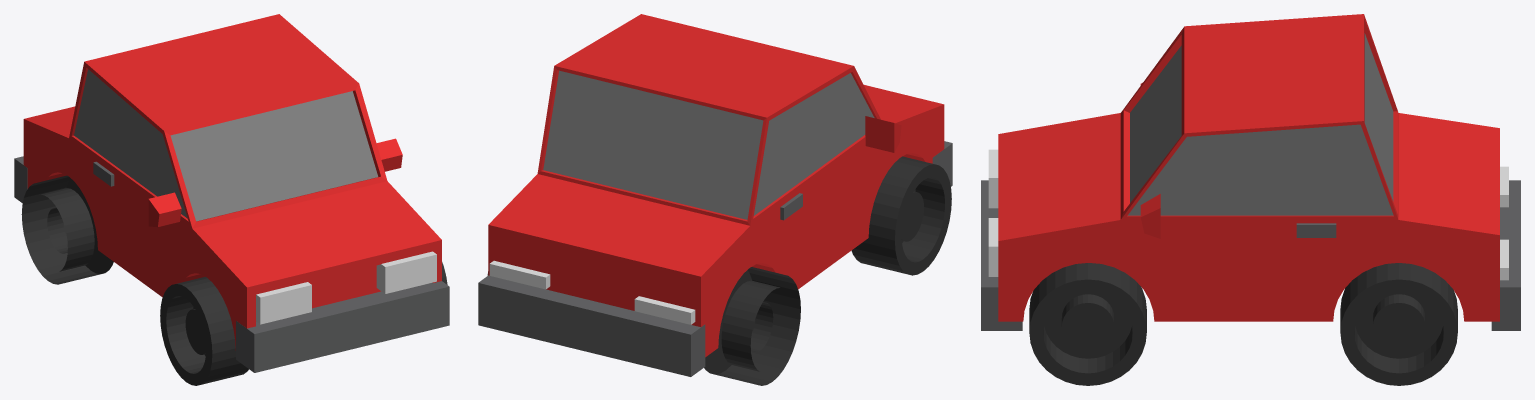
The model's file is mini_car.glb.
3 views of the same model, side by side, from view 1: azimuth 30°, elevation 25°; view 2: azimuth 150°, elevation 25°; view 3: azimuth 270°, elevation 25° (orthographic). The views are drawn at different scales.
Visible parts, largest first — view 1: car_body, front_bumper, rear_wheel_right, front_wheel_right, head_light_left, head_light_right, side_mirror, rear_bumper; view 2: car_body, rear_bumper, front_wheel_right, rear_wheel_right, side_mirror, back_light_left, back_ligh_right, front_bumper; view 3: car_body, rear_wheel_left, front_wheel_left, rear_bumper, front_bumper, side_mirror, head_light_right, head_light_left, door_knob.
Boxes of the visible parts, x1=… form: car_body: x1=23, y1=14, x2=441, y2=350; front_bumper: x1=236, y1=281, x2=449, y2=372; rear_wheel_right: x1=21, y1=175, x2=113, y2=284; front_wheel_right: x1=160, y1=276, x2=248, y2=385; head_light_left: x1=376, y1=251, x2=436, y2=293; head_light_right: x1=256, y1=282, x2=311, y2=324; side_mirror: x1=148, y1=138, x2=402, y2=227; rear_bumper: x1=14, y1=156, x2=27, y2=202; car_body: x1=488, y1=14, x2=944, y2=357; rear_bumper: x1=478, y1=275, x2=705, y2=376; front_wheel_right: x1=851, y1=156, x2=951, y2=275; rear_wheel_right: x1=704, y1=267, x2=800, y2=385; side_mirror: x1=865, y1=116, x2=901, y2=152; back_light_left: x1=489, y1=260, x2=550, y2=289; back_ligh_right: x1=634, y1=296, x2=695, y2=324; front_bumper: x1=932, y1=141, x2=952, y2=186; car_body: x1=998, y1=14, x2=1499, y2=321; rear_wheel_left: x1=1340, y1=263, x2=1457, y2=385; front_wheel_left: x1=1029, y1=263, x2=1146, y2=385; rear_bumper: x1=1491, y1=180, x2=1520, y2=330; front_bumper: x1=981, y1=180, x2=1022, y2=330; side_mirror: x1=1140, y1=82, x2=1160, y2=238; head_light_right: x1=988, y1=149, x2=998, y2=208; head_light_left: x1=988, y1=218, x2=998, y2=276; door_knob: x1=1296, y1=223, x2=1336, y2=237.
Size of the model in its own units: 2.54 by 2.21 by 4.26.
